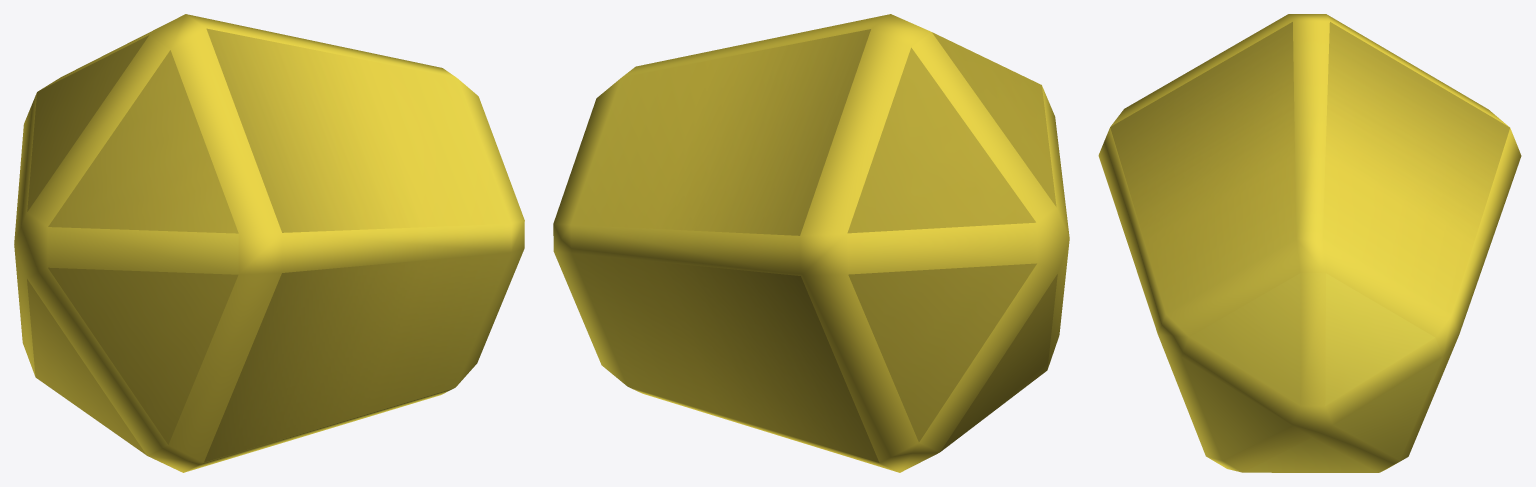
The model's file is christal_topaz_8.fbx.
3 views of the same model, side by side, from view 1: azimuth 30°, elevation 25°; view 2: azimuth 150°, elevation 25°; view 3: azimuth 270°, elevation 25° (orthographic). The views are drawn at different scales.
Visible parts, largest first — view 1: christal_topaz_8; view 2: christal_topaz_8; view 3: christal_topaz_8.
Boxes of the visible parts, <box> form: christal_topaz_8: <box>14,14,524,472</box>; christal_topaz_8: <box>553,14,1069,472</box>; christal_topaz_8: <box>1098,14,1521,472</box>.
Bounding box in the file's own units: 34.31 × 26.15 × 27.94.
1 material, 1 textured.
